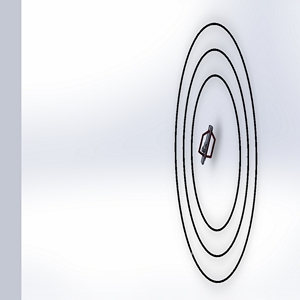circle: (168, 19, 263, 290)
submarine: (196, 122, 222, 167)
